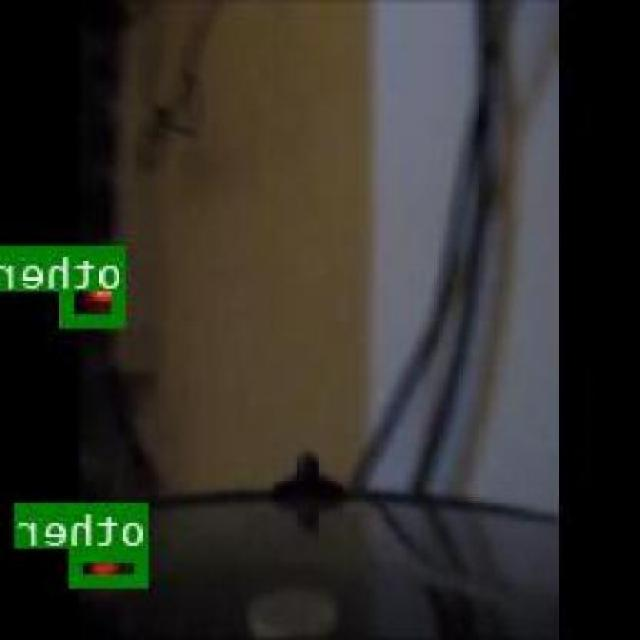other: (65, 246, 127, 326), (74, 548, 150, 584)
